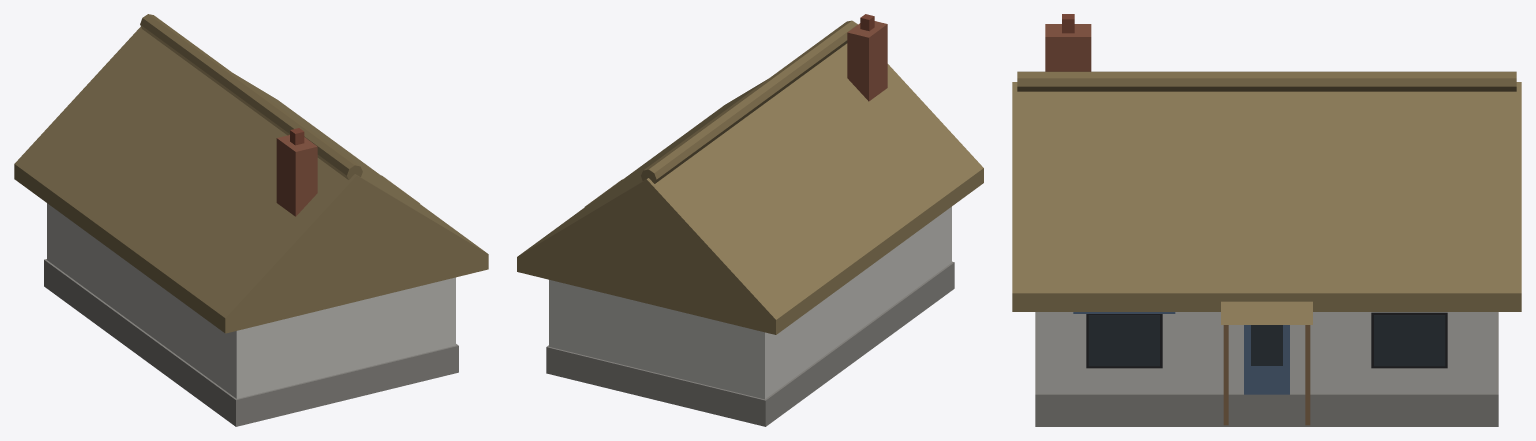
The model's file is SM_Prop_cafe_building_7_LOD1.glb.
The picture shows the model from 3 angles, left to right: view 1: azimuth 30°, elevation 25°; view 2: azimuth 150°, elevation 25°; view 3: azimuth 270°, elevation 25°; orthographic projection. The views are drawn at different scales.
Visible parts, largest first — view 1: SM_Prop_cafe_building_7_LOD1; view 2: SM_Prop_cafe_building_7_LOD1; view 3: SM_Prop_cafe_building_7_LOD1.
Boxes of the visible parts, bbox=[...] form: SM_Prop_cafe_building_7_LOD1: bbox=[14, 14, 488, 426]; SM_Prop_cafe_building_7_LOD1: bbox=[517, 14, 983, 426]; SM_Prop_cafe_building_7_LOD1: bbox=[1012, 14, 1521, 426].
Bounding box in the file's own units: 7.7 × 7 × 10.
